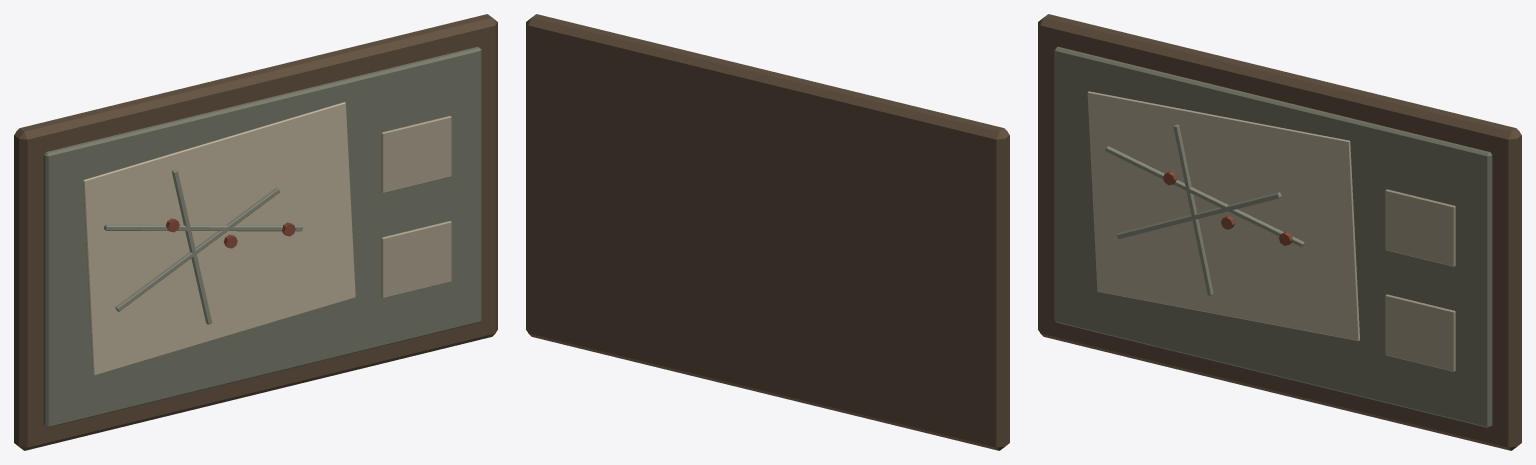
The model's file is MapBoard01.fbx.
The picture shows the model from 3 angles, left to right: view 1: azimuth 30°, elevation 25°; view 2: azimuth 150°, elevation 25°; view 3: azimuth 330°, elevation 25°; orthographic projection.
Visible parts, largest first — view 1: Canvas_Pinboard, Map_Paper, Board, Note, Note.001, Map_Route, Map_Route.002, Map_Route.001; view 2: Board; view 3: Canvas_Pinboard, Map_Paper, Board, Note, Note.001, Map_Route.002, Map_Route.001, Map_Route.
Boxes of the visible parts, bbox=[...] form: Canvas_Pinboard: bbox=[43, 46, 481, 427]; Map_Paper: bbox=[83, 102, 355, 375]; Board: bbox=[14, 14, 497, 450]; Note: bbox=[381, 221, 451, 298]; Note.001: bbox=[381, 116, 451, 193]; Map_Route: bbox=[115, 187, 280, 311]; Map_Route.002: bbox=[104, 224, 302, 231]; Map_Route.001: bbox=[171, 169, 212, 324]; Board: bbox=[526, 14, 1009, 450]; Canvas_Pinboard: bbox=[1054, 46, 1492, 427]; Map_Paper: bbox=[1087, 91, 1359, 340]; Board: bbox=[1038, 14, 1521, 450]; Note: bbox=[1385, 294, 1455, 371]; Note.001: bbox=[1385, 189, 1455, 266]; Map_Route.002: bbox=[1105, 146, 1304, 247]; Map_Route.001: bbox=[1173, 124, 1213, 295]; Map_Route: bbox=[1116, 192, 1281, 238].
Bounding box in the file's own units: 124 × 79 × 9.1.
